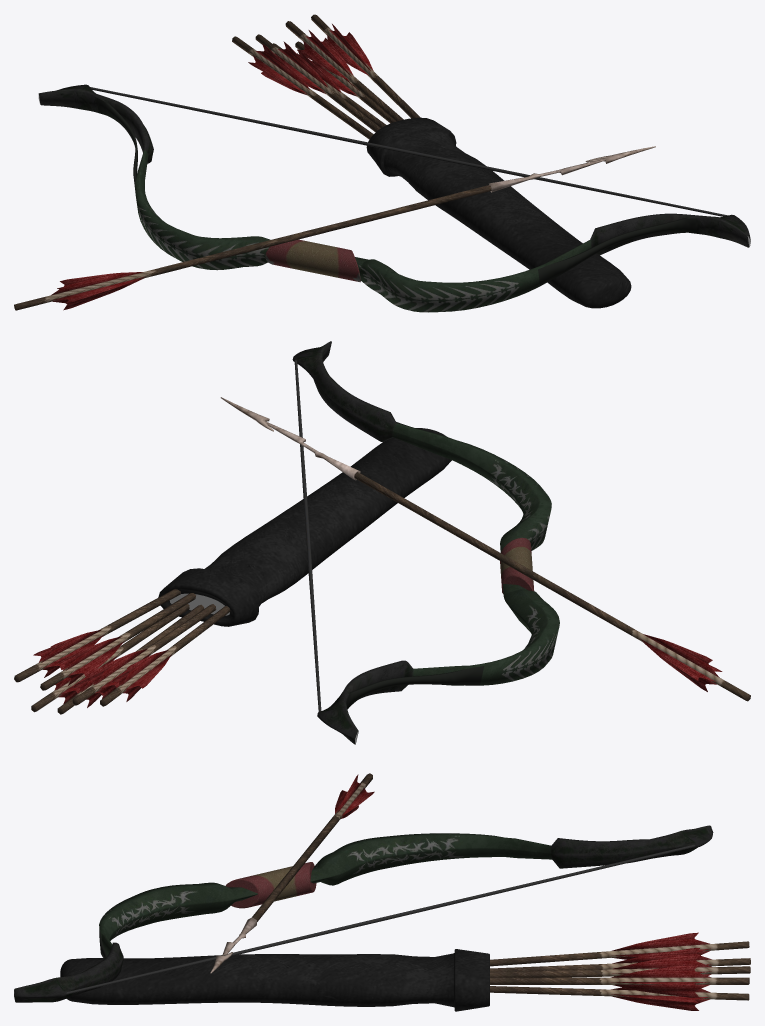
The model's file is bow_and_arrows.glb.
3 views of the same model, one above another, from view 1: azimuth 30°, elevation 25°; view 2: azimuth 150°, elevation 25°; view 3: azimuth 270°, elevation 25° (orthographic). The views are drawn at different scales.
Parts seen in each view (by area): view 1: arco; view 2: arco; view 3: arco.
Part boxes in pixels (x1,y1,x2,y2): arco: [14, 14, 750, 312]; arco: [14, 341, 750, 744]; arco: [14, 773, 750, 1011].
Bounding box in the file's own units: 0.579 × 0.0879 × 0.6367.
1 material, 1 textured.
